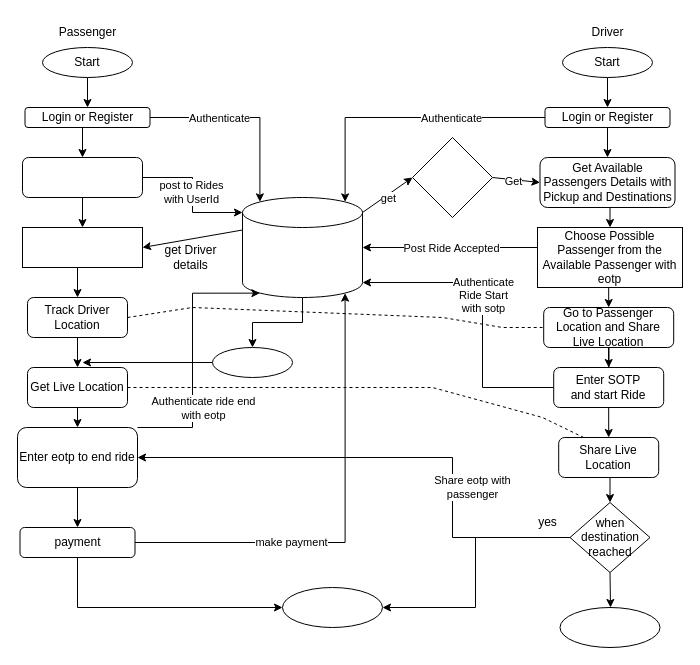
This 700x665 diagram has some shape labels left out. Each missing label, with the centre of its shape:
Dattabase: [302,247]
End Ride: [332,607]
Enter Pickup and Destination Location: [82,177]
Get Driver Details Price with sotp: [82,247]
If Ride != Accepted: [452,177]
Ride Not Ended: [609,627]
Start Ride: [252,362]
